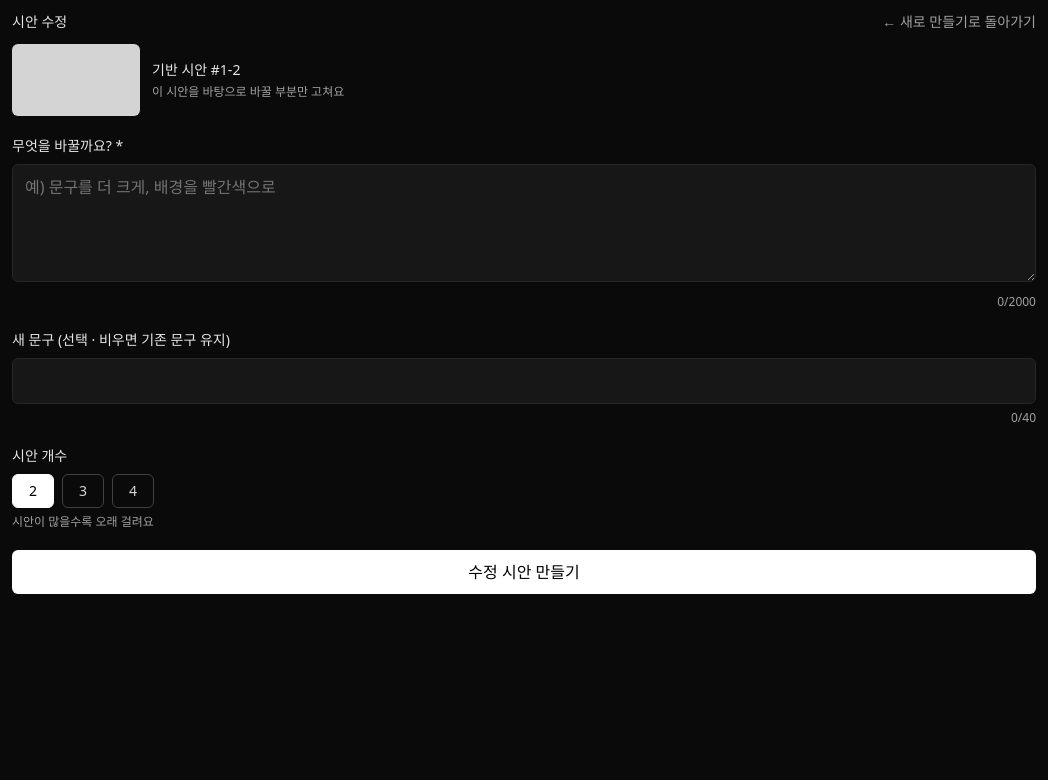
Test: revise 모드 › 수정 요청이 비어 있으면 revise용 메시지를 띄우고 제출하지 않는다
This screenshot has width=1048, height=780.
Step 1. Click the button "수정 시안 만들기" → (524, 572), box [12,550,1036,594]
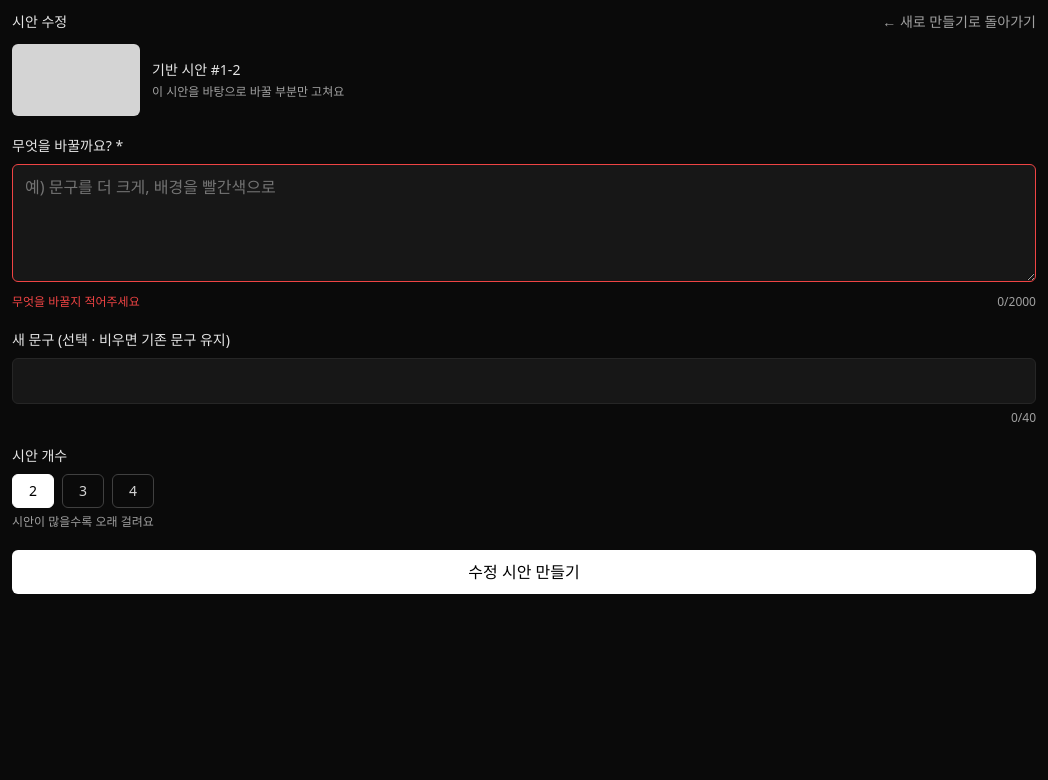
Expected: the text "무엇을 바꿀지 적어주세요" is shown, [12,294,140,310]
